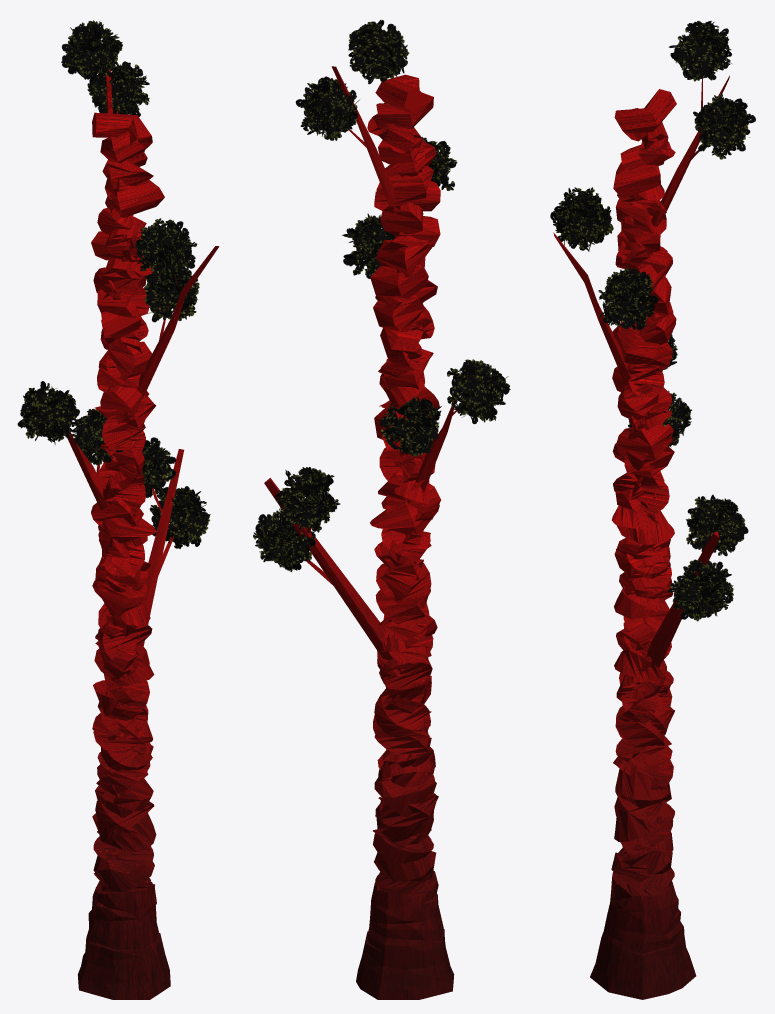
The model's file is deadwood_snag_v02_LOD1.glb.
The picture shows the model from 3 angles, left to right: view 1: azimuth 30°, elevation 25°; view 2: azimuth 150°, elevation 25°; view 3: azimuth 270°, elevation 25°; orthographic projection. The views are drawn at different scales.
Visible parts, largest first — view 1: deadwood_snag_v02_LOD1; view 2: deadwood_snag_v02_LOD1; view 3: deadwood_snag_v02_LOD1.
Boxes of the visible parts, <box> form: deadwood_snag_v02_LOD1: <box>17,20,219,999</box>; deadwood_snag_v02_LOD1: <box>253,19,510,999</box>; deadwood_snag_v02_LOD1: <box>550,21,755,999</box>.
Bounding box in the file's own units: 4.83 × 19.97 × 4.07.
Materials: 2 (2 with a texture image).
